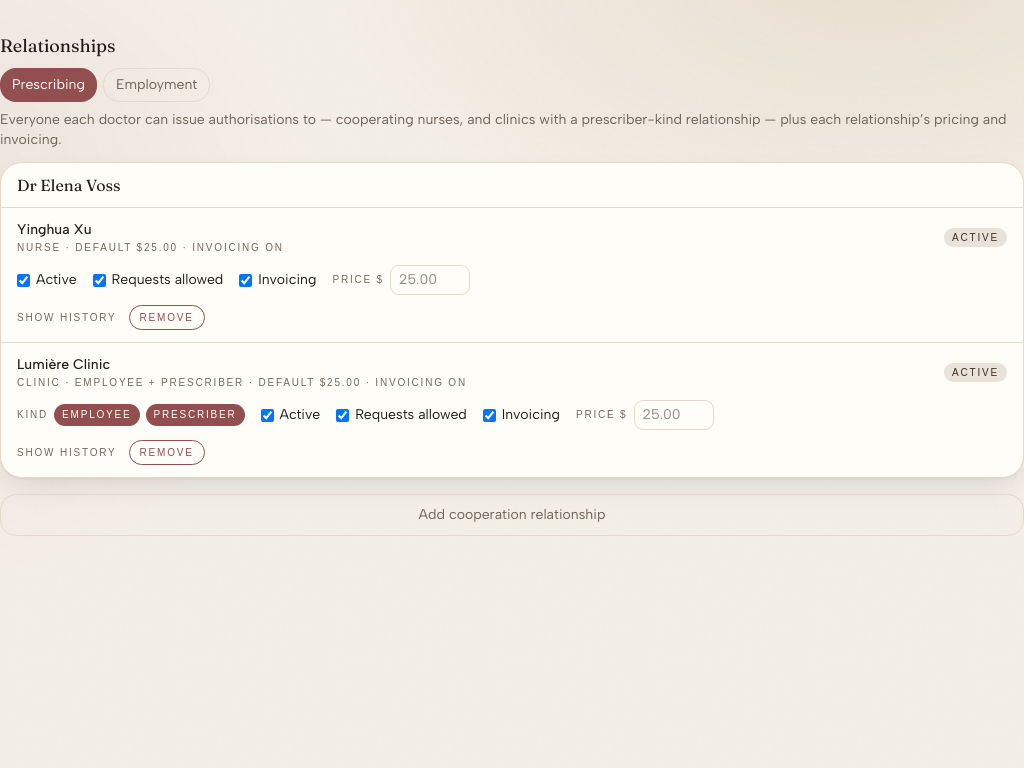
Employment view › lists a staffless clinic from the directory with an empty state
Click the button "Employment". click: (157, 85)
box: [103,68,210,102]
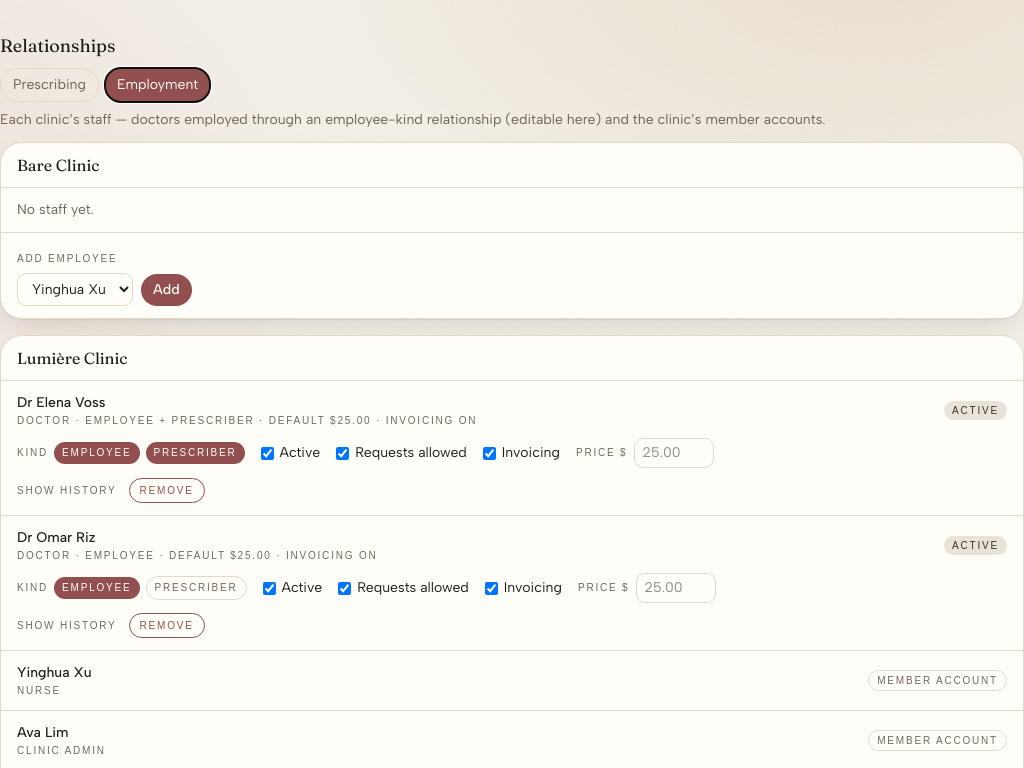
Now the text "No staff yet." is shown, box [17,201,94,218]
